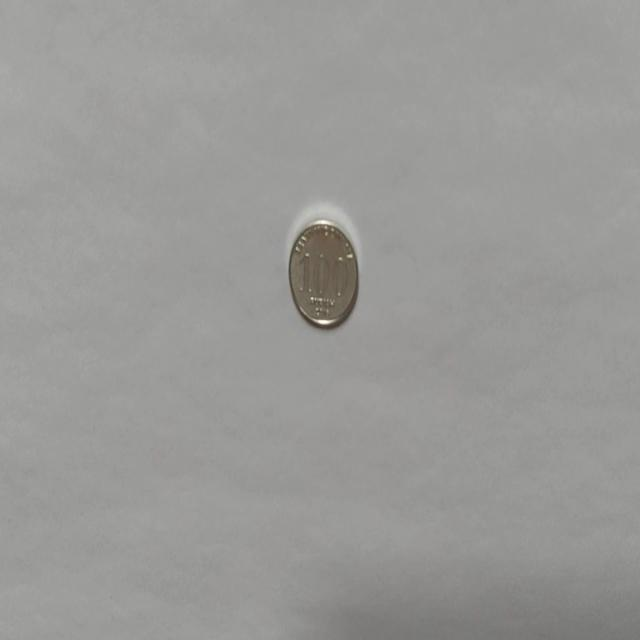seratus rupiah: (287, 217, 358, 328)
